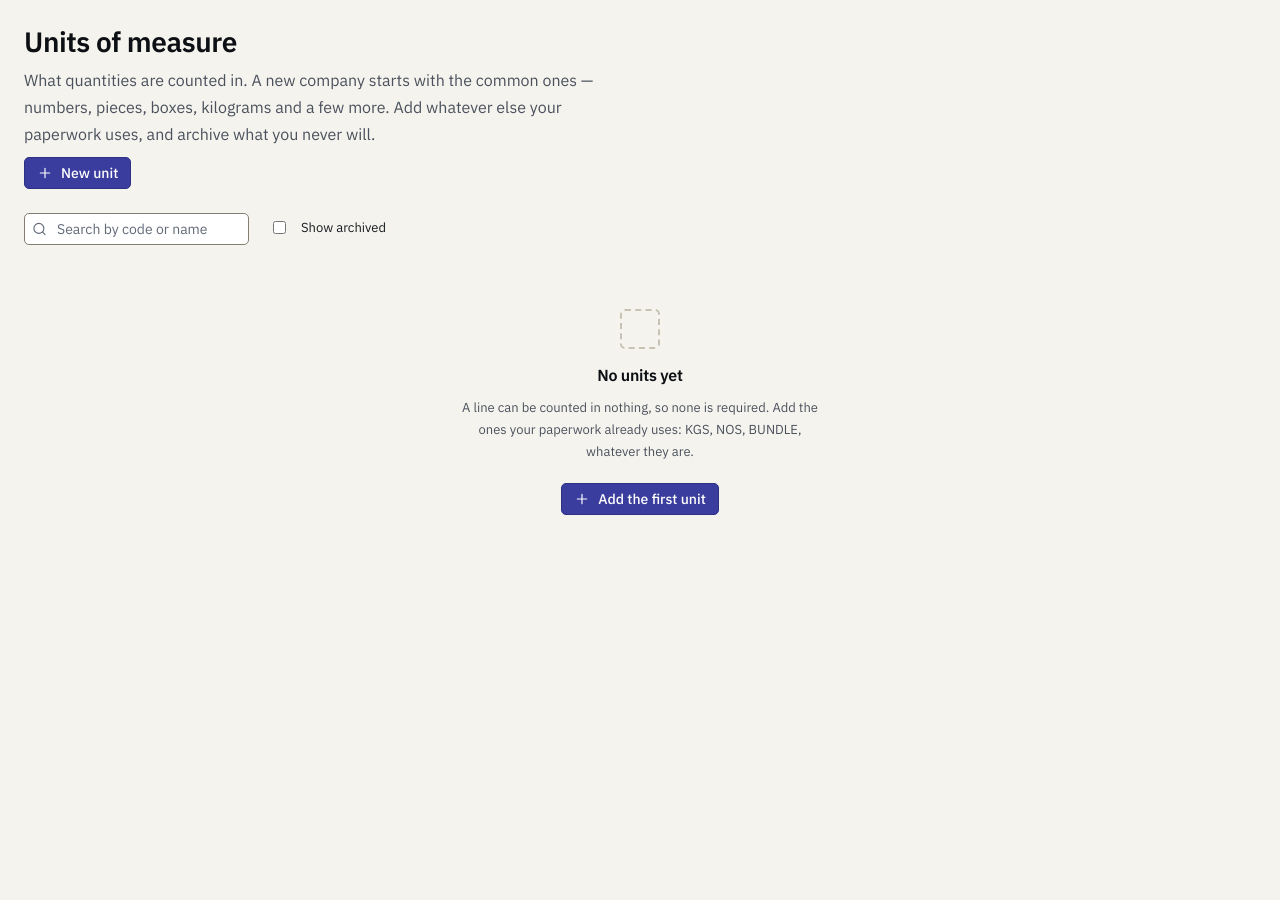
adding › will not save a unit with no code
The width and height of the screenshot is (1280, 900).
Expected: the heading "No units yet" is shown, [597,365,683,385]
Click the button "New unit": (78, 173) [24,157,131,189]
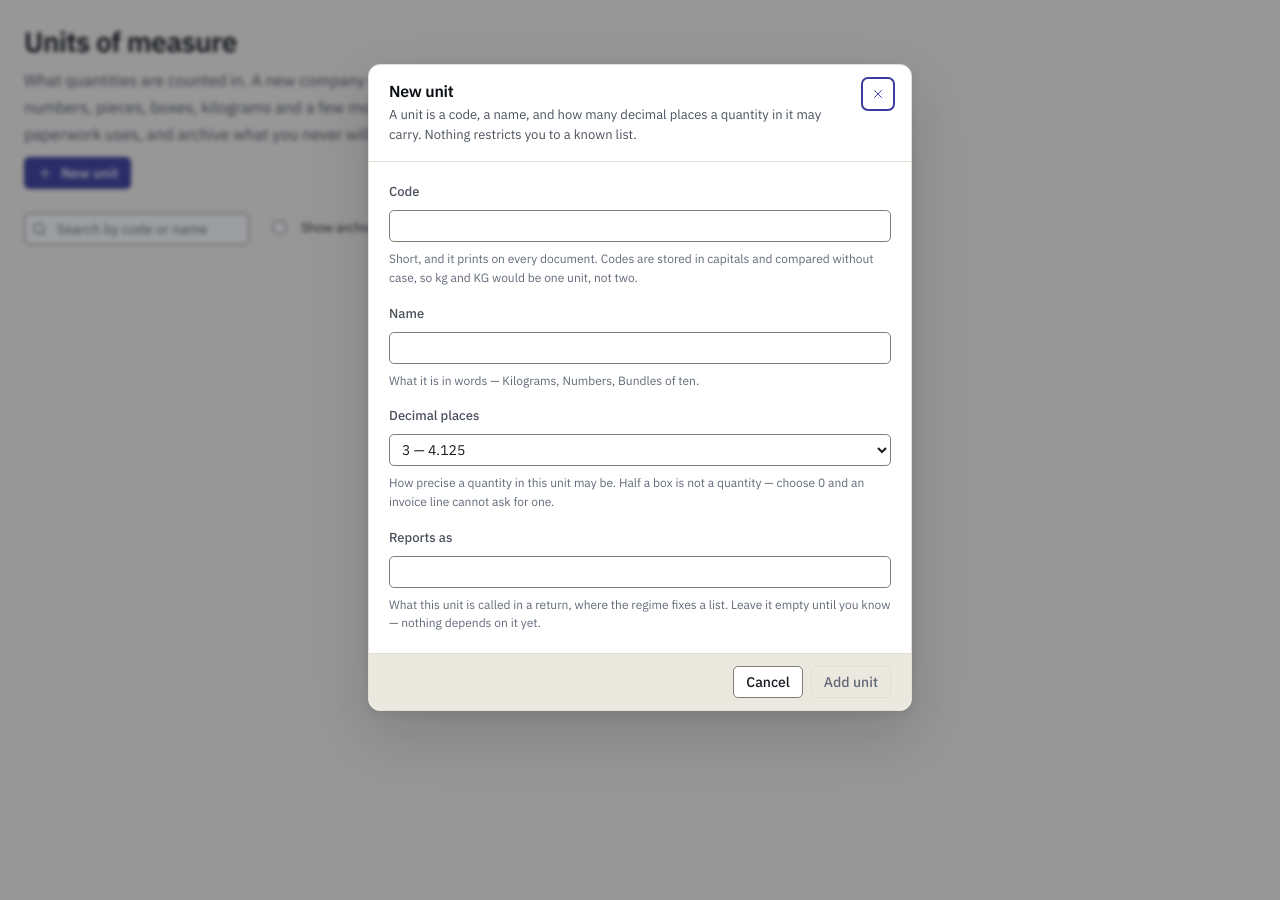
Now the button "Add unit" is disabled, box [811,666,891,698]
In the field labelled "Name": (640, 348) [389,332,891,364], type "Kilograms"
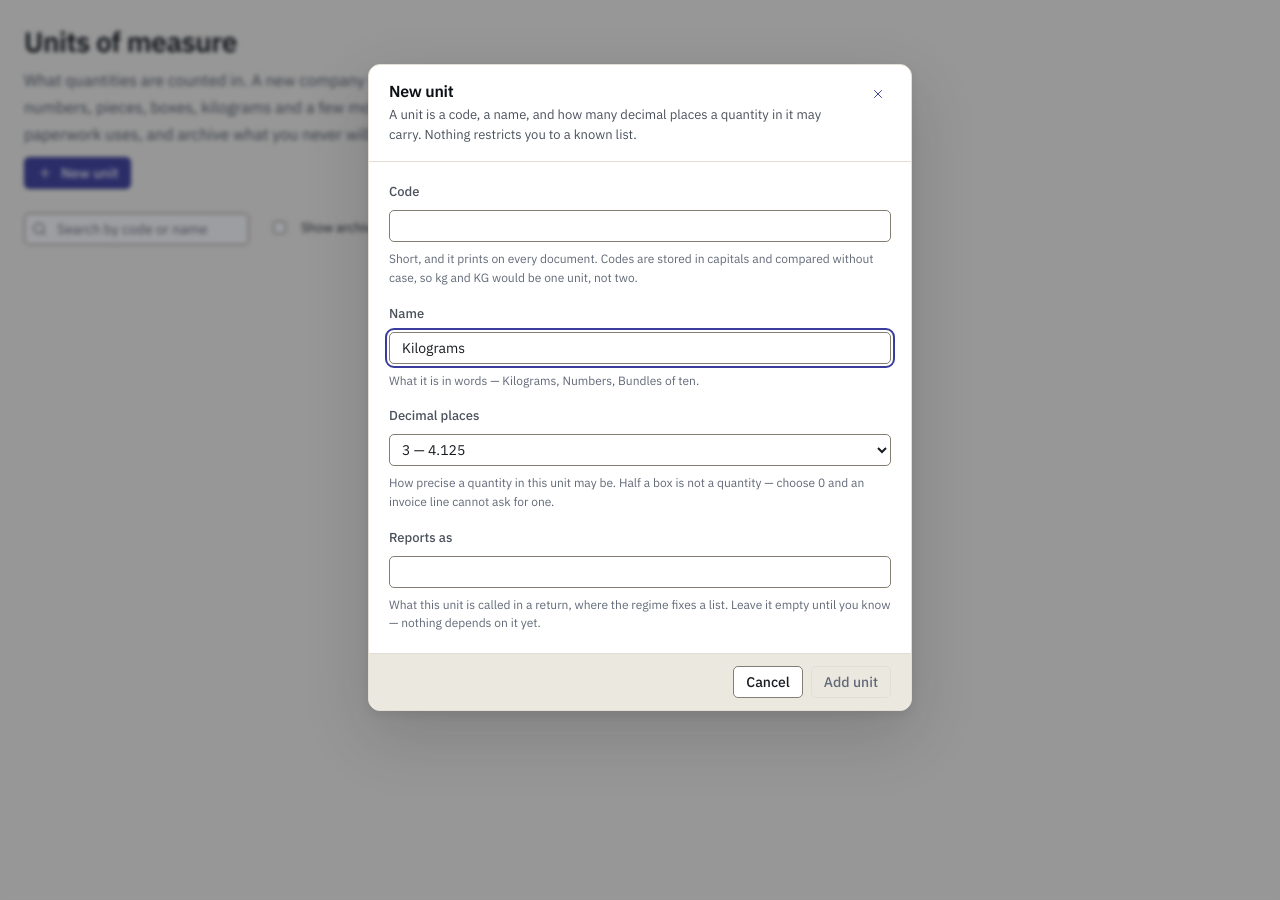
Now the button "Add unit" is disabled, box [811,666,891,698]
In the field labelled "Code": (640, 226) [389,210,891,242], type "KGS"
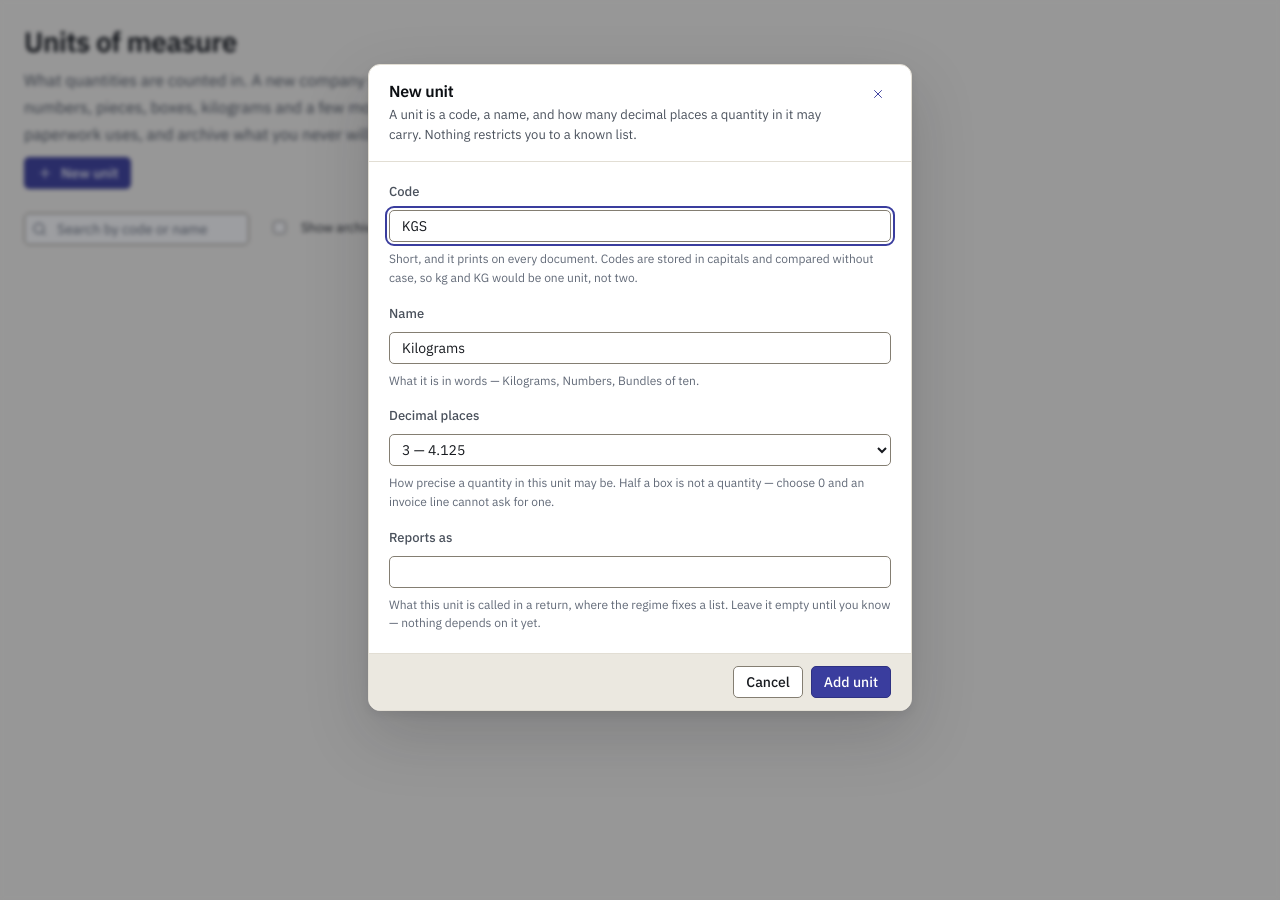
Now the button "Add unit" is enabled, box [811,666,891,698]
